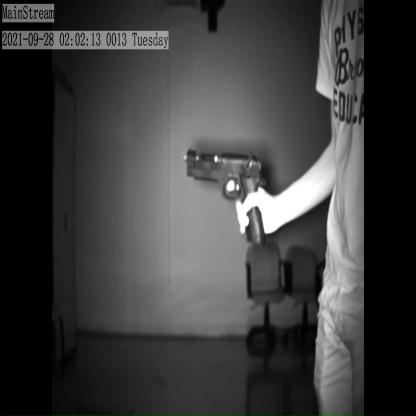weapon: (184, 142, 268, 250)
